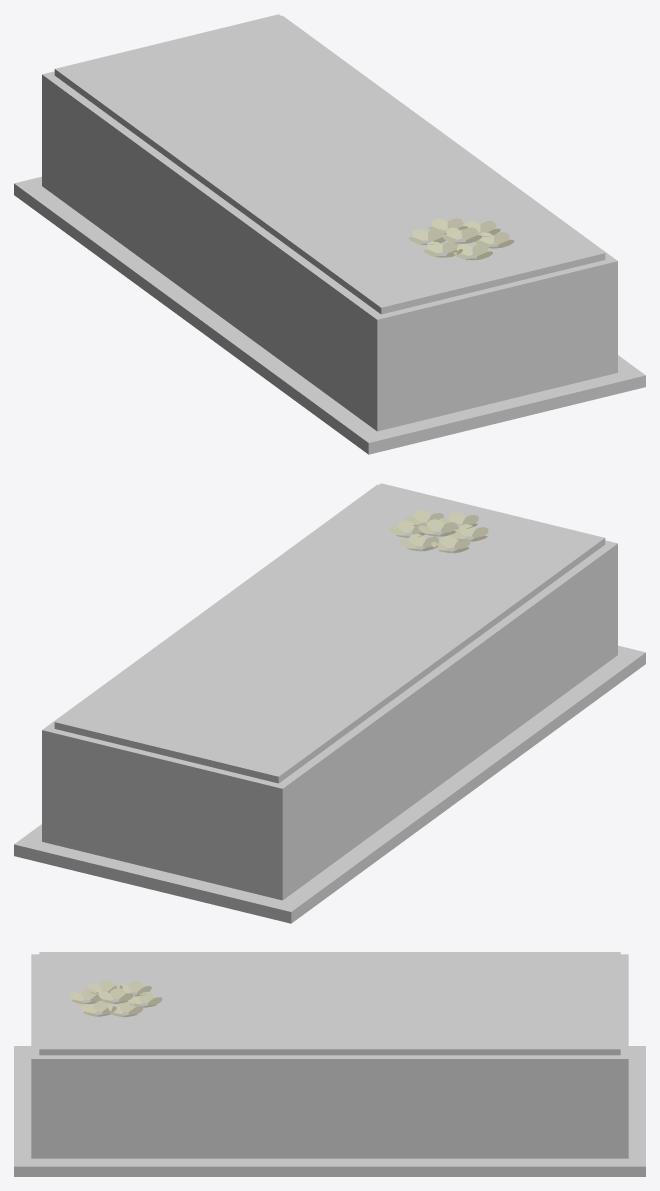
Rendered from hrob - ročníkovka.fbx.
3 views of the same model, one above another, from view 1: azimuth 30°, elevation 25°; view 2: azimuth 150°, elevation 25°; view 3: azimuth 270°, elevation 25° (orthographic). The views are drawn at different scales.
Visible parts, largest first — view 1: Cube; view 2: Cube; view 3: Cube.
Part boxes in pixels (x1,y1,x2,y2): Cube: (14, 14, 645, 454); Cube: (14, 483, 645, 923); Cube: (14, 952, 645, 1176).
Size of the model in its own units: 200 by 97.45 by 443.
